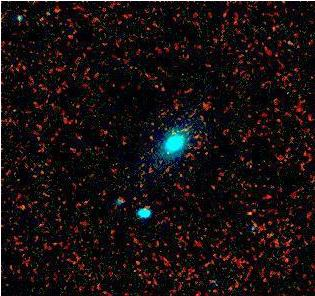star: (233, 199, 263, 229)
